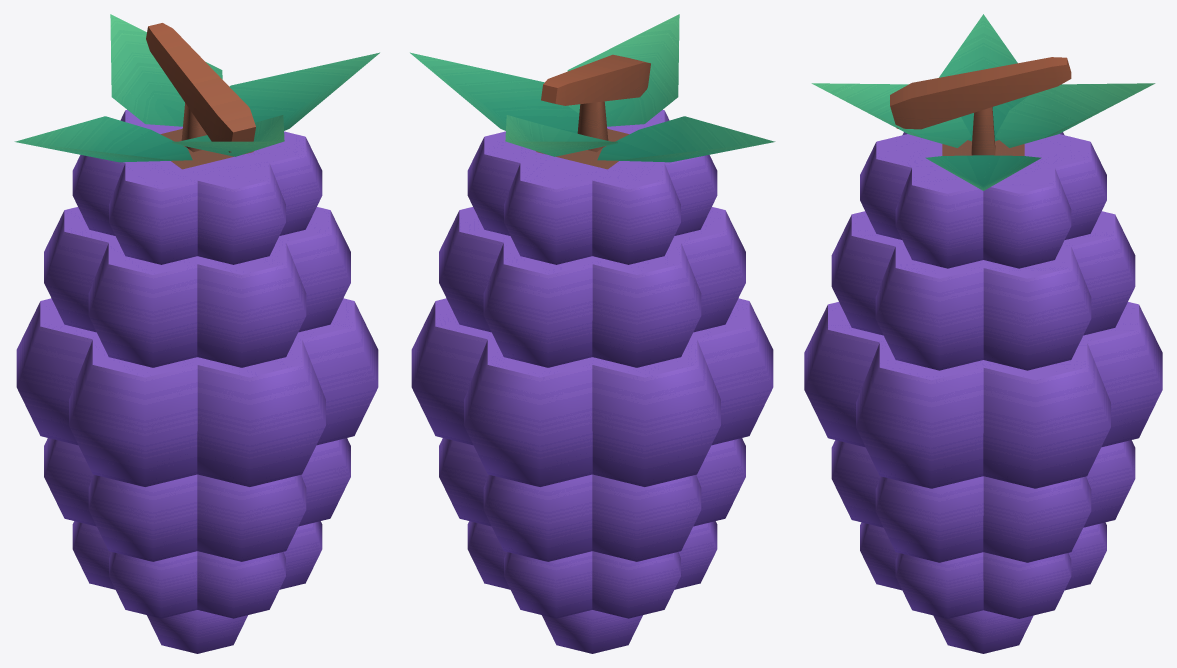
Rendered from grapes.glb.
The picture shows the model from 3 angles, left to right: view 1: azimuth 30°, elevation 25°; view 2: azimuth 150°, elevation 25°; view 3: azimuth 270°, elevation 25°; orthographic projection.
Visible parts, largest first — view 1: grapes; view 2: grapes; view 3: grapes.
Part boxes in pixels (box(x1,y1,x2,y2)): grapes: box(14, 14, 379, 653); grapes: box(410, 14, 775, 653); grapes: box(804, 14, 1162, 653).
Size of the model in its own units: 0.279 by 0.4226 by 0.2386.
Materials: 1 (1 with a texture image).
